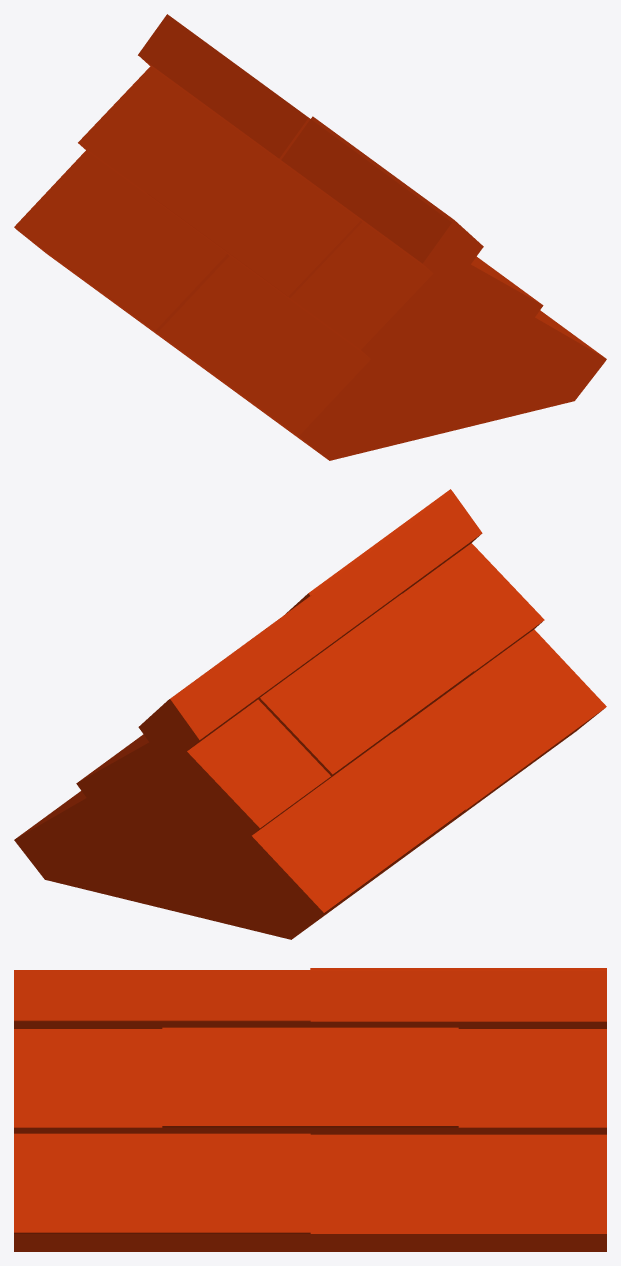
The model's file is Building_Modular_Roof_Piece_02.fbx.
3 views of the same model, one above another, from view 1: azimuth 30°, elevation 25°; view 2: azimuth 150°, elevation 25°; view 3: azimuth 270°, elevation 25° (orthographic). The views are drawn at different scales.
Visible parts, largest first — view 1: Model; view 2: Model; view 3: Model.
Boxes of the visible parts, left/top/right/bottom form: Model: left=14, top=14, right=606, bottom=460; Model: left=14, top=489, right=606, bottom=939; Model: left=14, top=968, right=606, bottom=1251.
Bounding box in the file's own units: 268 × 174 × 425.
